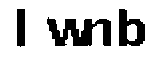b: (116, 4, 149, 51)
l: (10, 4, 31, 54)
n: (86, 17, 113, 50)
w: (44, 17, 86, 48)
